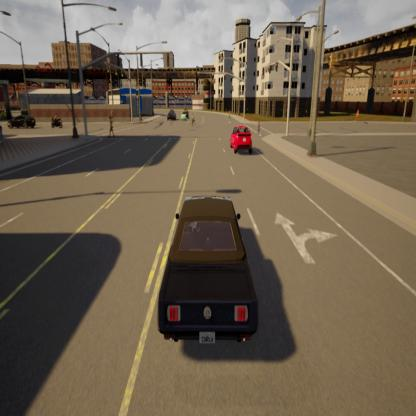Cars: (146, 182, 265, 355), (228, 116, 256, 158), (8, 108, 38, 136), (48, 110, 74, 137), (166, 102, 179, 128), (181, 108, 190, 125)
Pedestrian: (106, 105, 115, 146), (353, 105, 362, 128), (256, 116, 264, 139), (191, 109, 196, 133), (227, 102, 232, 126)
